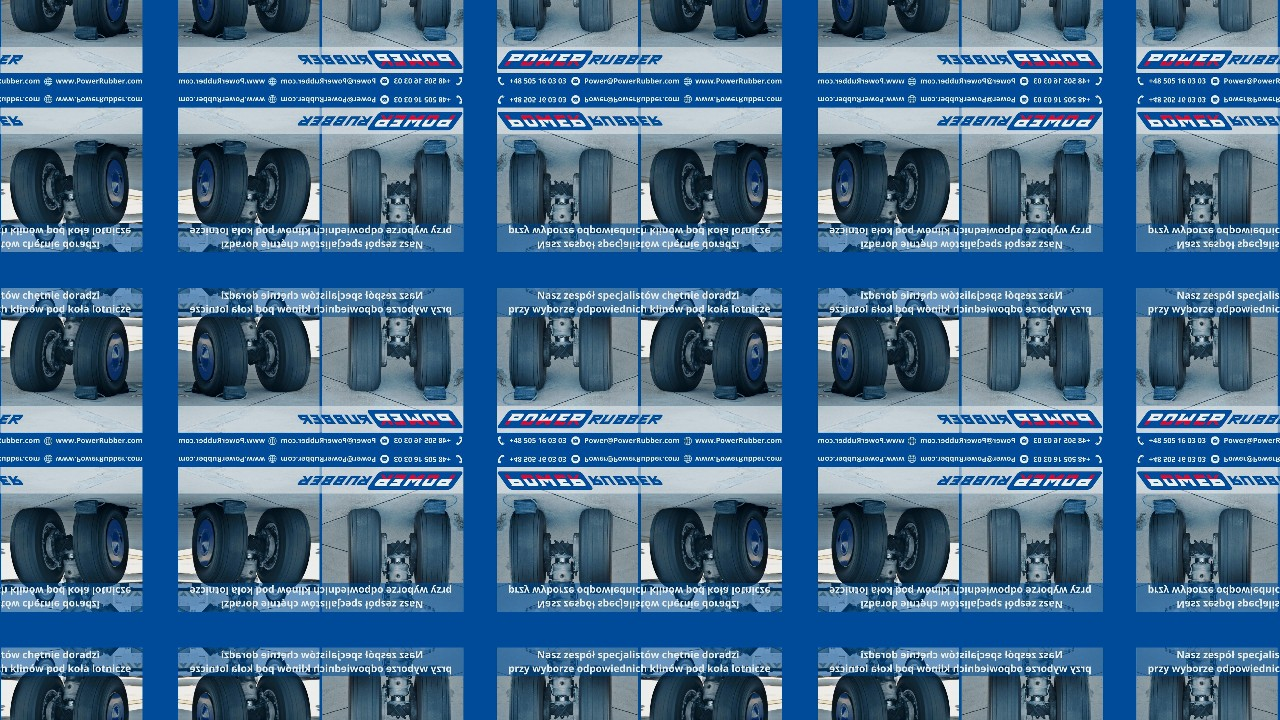chock: (422, 24, 447, 42), (513, 24, 538, 42), (1062, 24, 1087, 42), (1153, 24, 1178, 42), (422, 138, 447, 156), (513, 138, 538, 156), (1062, 138, 1087, 156), (1153, 138, 1178, 156), (422, 384, 447, 402), (513, 384, 538, 402), (1062, 384, 1087, 402), (1153, 384, 1178, 402), (422, 498, 447, 516), (513, 498, 538, 516), (1062, 498, 1087, 516), (1153, 498, 1178, 516), (74, 139, 98, 155), (222, 139, 246, 155), (714, 139, 738, 155), (862, 139, 886, 155), (74, 25, 98, 40), (222, 25, 246, 40), (714, 25, 738, 40), (862, 25, 886, 40), (74, 385, 98, 400), (222, 385, 246, 400), (714, 385, 738, 400), (862, 385, 886, 400), (74, 500, 98, 515), (222, 500, 246, 515), (714, 500, 738, 515), (862, 500, 886, 515), (118, 21, 131, 34), (189, 21, 202, 34), (758, 21, 771, 34), (829, 21, 842, 34), (118, 146, 131, 159), (189, 146, 202, 159), (758, 146, 771, 159), (829, 146, 842, 159), (118, 381, 131, 394), (189, 381, 202, 394), (758, 381, 771, 394), (829, 381, 842, 394), (118, 506, 131, 519), (189, 506, 202, 519), (758, 506, 771, 519), (829, 506, 842, 519)
wheel: (72, 143, 128, 225), (192, 143, 248, 225), (712, 143, 768, 225), (832, 143, 888, 225), (72, 315, 128, 397), (192, 315, 248, 397), (712, 315, 768, 397), (832, 315, 888, 397), (72, 503, 128, 585), (192, 503, 248, 585), (712, 503, 768, 585), (832, 503, 888, 585), (9, 148, 65, 226), (255, 148, 311, 226), (649, 148, 705, 226), (895, 148, 951, 226), (9, 314, 65, 392), (255, 314, 311, 392), (649, 314, 705, 392), (895, 314, 951, 392), (9, 508, 65, 586), (255, 508, 311, 586), (649, 508, 705, 586), (895, 508, 951, 586), (413, 149, 452, 234), (508, 149, 547, 234), (1053, 149, 1092, 234), (1148, 149, 1187, 234), (413, 306, 452, 391), (508, 306, 547, 391), (1053, 306, 1092, 391), (1148, 306, 1187, 391), (413, 509, 452, 594), (508, 509, 547, 594), (1053, 509, 1092, 594), (1148, 509, 1187, 594), (347, 149, 382, 233), (578, 149, 613, 233), (987, 149, 1022, 233), (1218, 149, 1253, 233), (347, 307, 382, 391), (578, 307, 613, 391), (987, 307, 1022, 391), (1218, 307, 1253, 391), (347, 509, 382, 593), (578, 509, 613, 593), (987, 509, 1022, 593), (1218, 509, 1253, 593), (9, 673, 65, 720), (255, 673, 311, 720), (649, 673, 705, 720), (895, 673, 951, 720), (72, 675, 128, 720), (192, 675, 248, 720), (712, 675, 768, 720), (832, 675, 888, 720), (413, 666, 452, 720), (508, 666, 547, 720), (1053, 666, 1092, 720), (1148, 666, 1187, 720), (72, 0, 128, 37), (192, 0, 248, 37), (712, 0, 768, 37), (832, 0, 888, 37), (347, 667, 382, 720), (578, 667, 613, 720), (987, 667, 1022, 720), (1218, 667, 1253, 720), (9, 0, 65, 32), (255, 0, 311, 32), (649, 0, 705, 32), (895, 0, 951, 32), (413, 0, 452, 31), (508, 0, 547, 31), (1053, 0, 1092, 31), (1148, 0, 1187, 31), (347, 0, 382, 31), (578, 0, 613, 31), (987, 0, 1022, 31), (1218, 0, 1253, 31), (33, 226, 56, 243), (264, 226, 287, 243), (673, 226, 696, 243), (904, 226, 927, 243), (33, 297, 56, 314), (264, 297, 287, 314), (673, 297, 696, 314), (904, 297, 927, 314), (33, 586, 56, 603), (264, 586, 287, 603), (673, 586, 696, 603), (904, 586, 927, 603), (33, 657, 56, 674), (264, 657, 287, 674), (673, 657, 696, 674), (904, 657, 927, 674)
